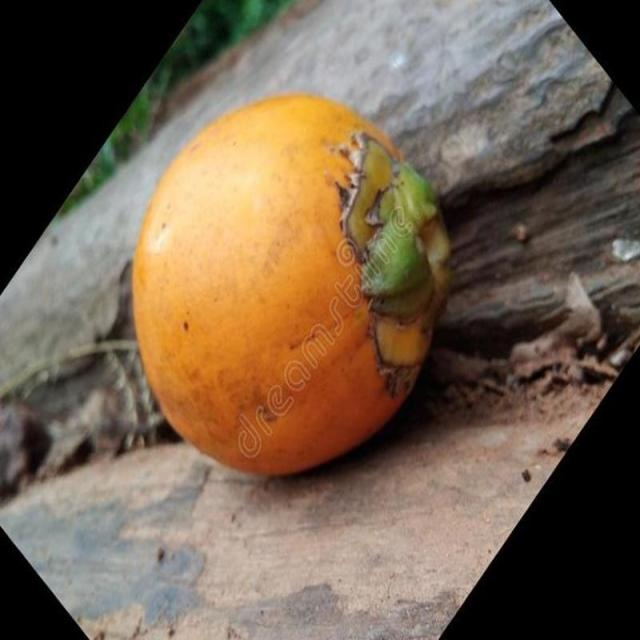good: (130, 93, 452, 479)
